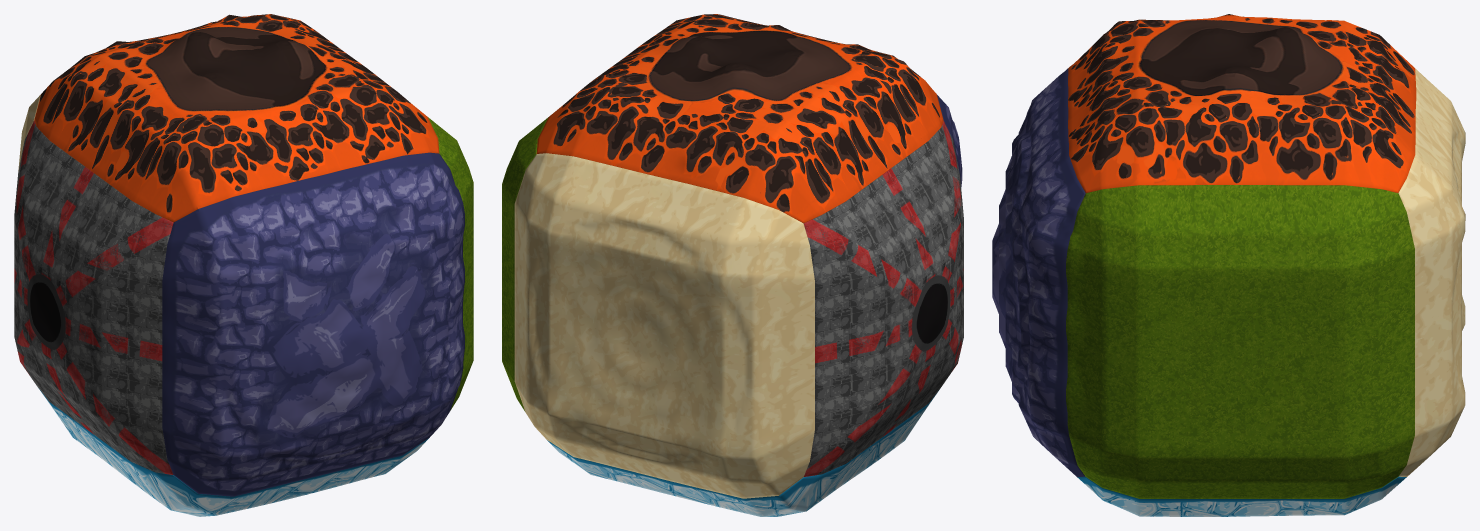
Rendered from World.fbx.
The picture shows the model from 3 angles, left to right: view 1: azimuth 30°, elevation 25°; view 2: azimuth 150°, elevation 25°; view 3: azimuth 270°, elevation 25°; orthographic projection. The views are drawn at different scales.
Parts seen in each view (by area): view 1: Ice2; view 2: Ice2; view 3: Ice2.
Boxes of the visible parts, box(x1,y1,x2,y2) form: Ice2: box(14, 14, 473, 516); Ice2: box(502, 14, 963, 516); Ice2: box(992, 14, 1465, 516).
Bounding box in the file's own units: 2521 × 2670 × 2611.
